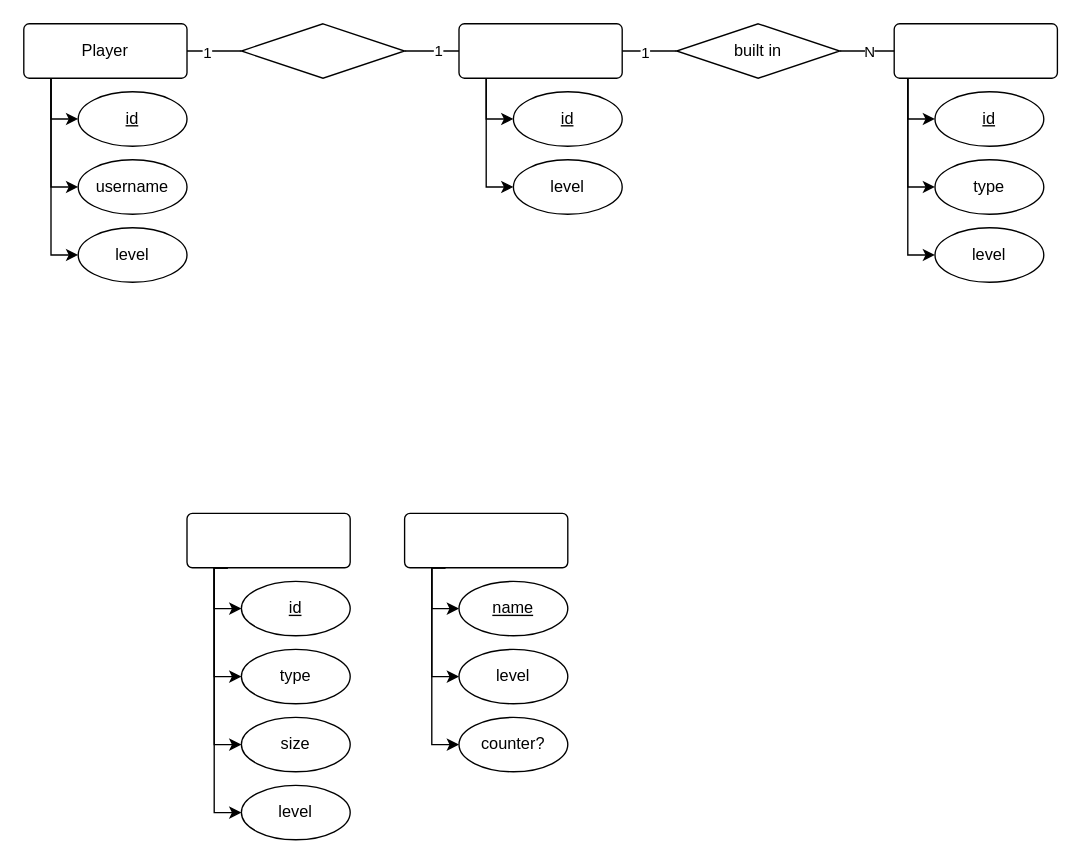
Some shapes in this 1081 by 864 pixel diagram are drawn without their labels. Each missing label, with the centre of its shape:
Building: the point at 975,50
Clan: the point at 485,540
Owns: the point at 322,50
Troop: the point at 268,540
Village: the point at 540,50
